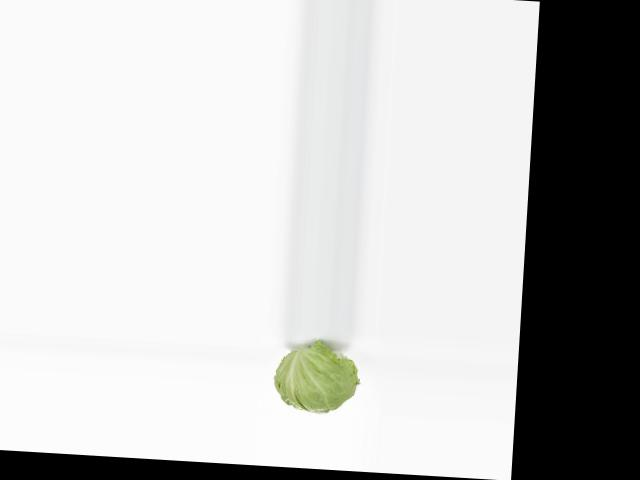lettuce: (267, 347, 363, 416)
